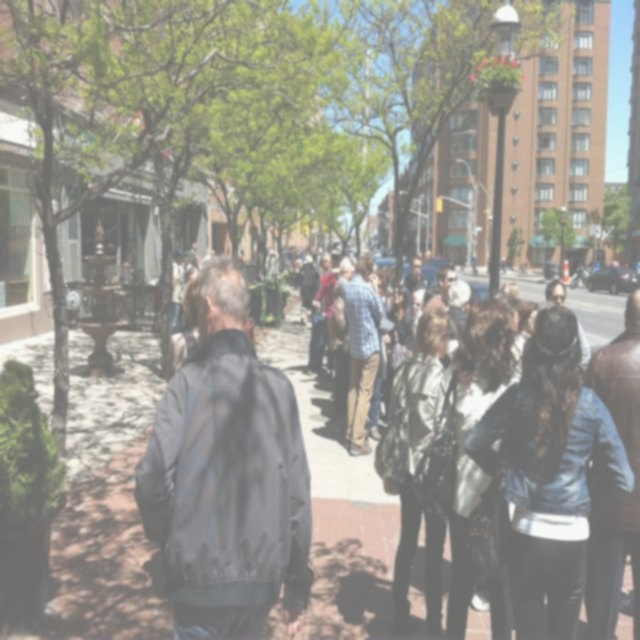pessoa: (144, 248, 322, 640), (460, 302, 630, 640), (431, 301, 518, 639), (370, 306, 450, 640), (581, 286, 640, 640), (341, 252, 385, 459), (544, 278, 592, 372), (164, 274, 204, 386), (298, 249, 332, 378), (368, 268, 392, 444), (226, 236, 356, 261), (330, 276, 350, 433), (510, 300, 540, 376), (314, 252, 332, 376), (422, 262, 458, 314), (493, 278, 523, 332), (386, 284, 410, 346), (402, 254, 432, 301), (448, 280, 471, 340), (410, 288, 427, 358), (170, 247, 183, 335), (299, 256, 315, 326), (122, 221, 138, 261), (176, 250, 184, 326), (183, 254, 203, 277), (372, 263, 392, 285), (122, 261, 138, 284), (423, 282, 443, 300), (339, 258, 353, 282), (463, 287, 474, 315), (579, 264, 591, 288), (187, 242, 198, 268), (103, 266, 118, 284), (470, 252, 480, 278), (571, 259, 595, 268), (436, 251, 444, 276), (459, 252, 467, 276), (500, 256, 508, 276), (636, 256, 640, 289), (448, 253, 456, 266), (256, 268, 264, 278), (422, 249, 430, 259)
